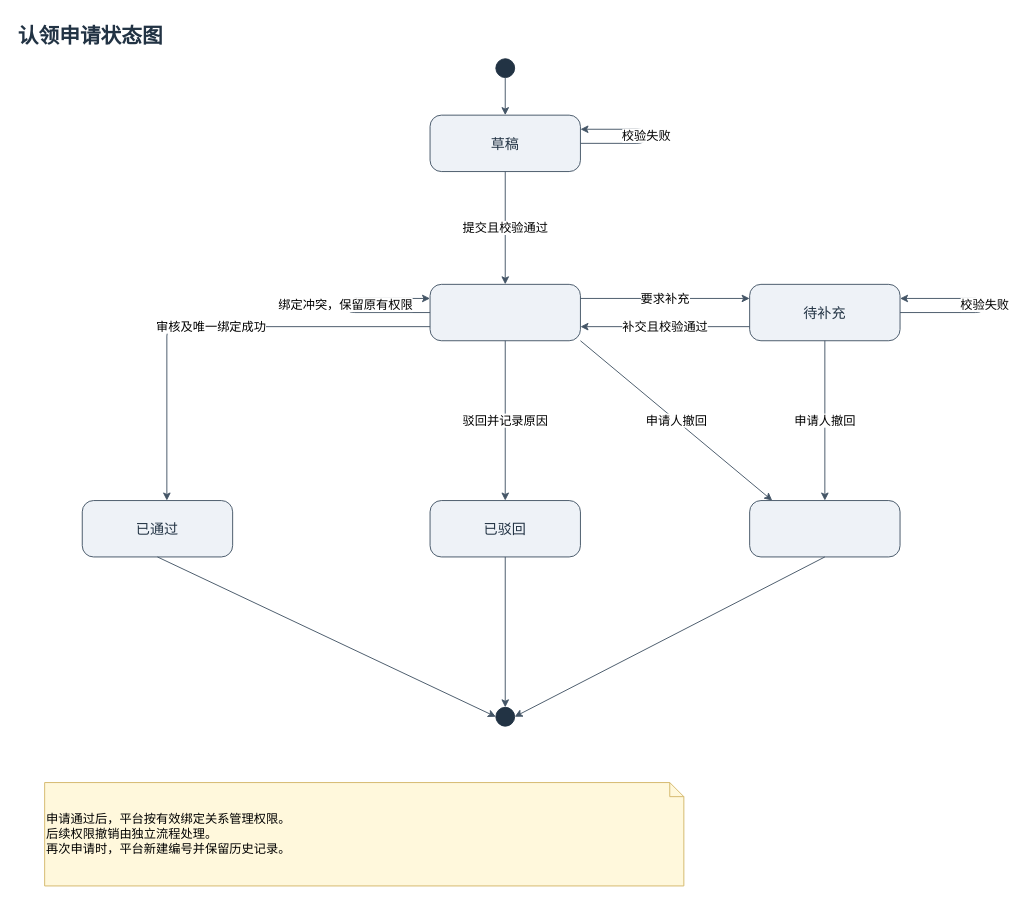
The diagram is 1025 pixels wide and 902 high, and some of its shapes have lost their labels. Here are the shapes that lost their labels. From the top down, the box of each, then its label:
(429, 283, 580, 341): 待审核
(749, 500, 900, 557): 已撤回
